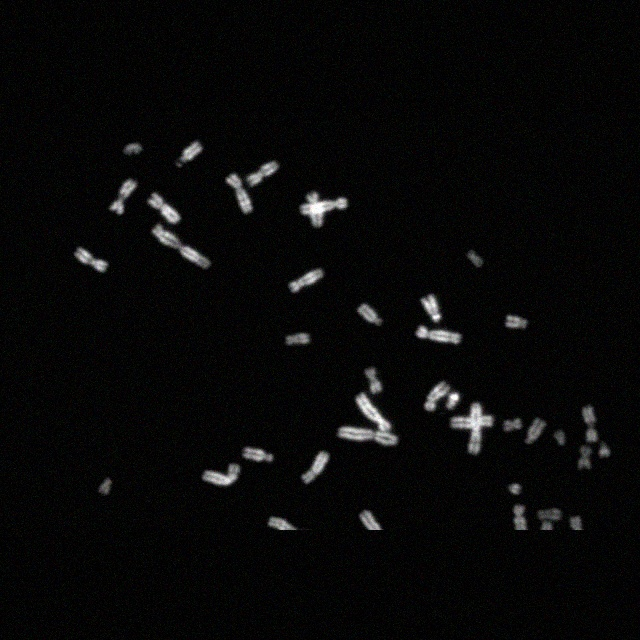chromosome: (152, 224, 210, 268), (355, 392, 391, 432), (226, 173, 252, 214), (147, 193, 181, 224), (300, 451, 330, 485), (338, 428, 398, 444), (110, 178, 136, 214), (300, 197, 348, 215), (202, 464, 240, 486), (247, 161, 279, 187), (416, 326, 462, 344), (74, 248, 108, 272), (289, 268, 323, 292), (468, 402, 482, 456), (424, 382, 450, 411), (176, 142, 202, 168), (421, 294, 441, 322), (306, 192, 322, 226), (358, 303, 382, 325), (451, 416, 493, 428), (582, 406, 596, 442), (526, 419, 544, 445), (358, 510, 380, 530), (242, 448, 272, 462), (365, 367, 381, 393), (268, 516, 296, 530), (578, 446, 592, 469), (514, 505, 526, 531), (468, 250, 484, 268), (505, 316, 527, 329), (538, 508, 560, 520), (284, 334, 310, 344), (446, 392, 460, 410), (504, 418, 522, 432), (598, 443, 612, 457), (554, 430, 566, 446), (99, 478, 111, 494), (125, 144, 142, 154), (508, 484, 522, 496), (569, 516, 581, 530)
